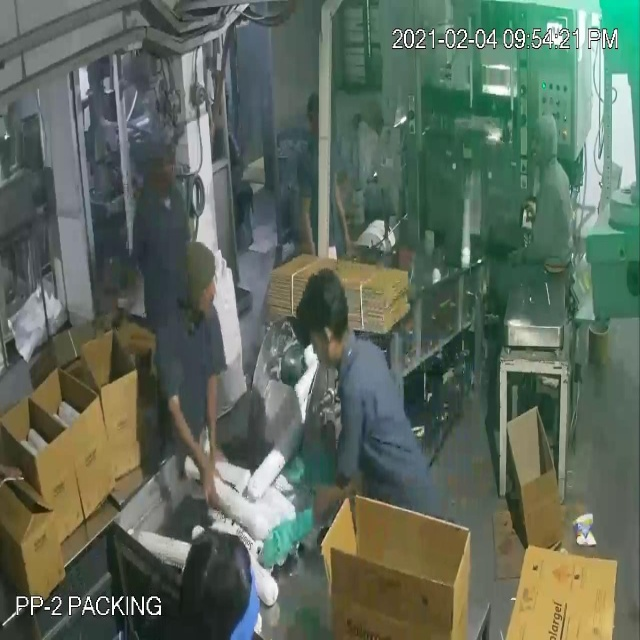Guantes: (285, 420, 354, 498), (259, 501, 319, 572)
Sin_guantes: (161, 362, 220, 517), (194, 354, 233, 470), (325, 162, 358, 261), (297, 186, 324, 264)
